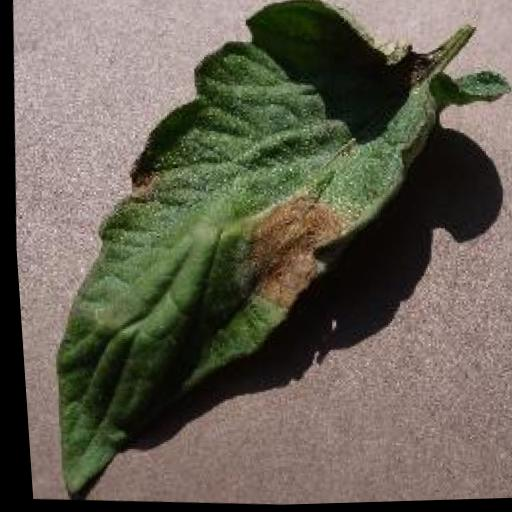Late Blight: (25, 0, 476, 511)
